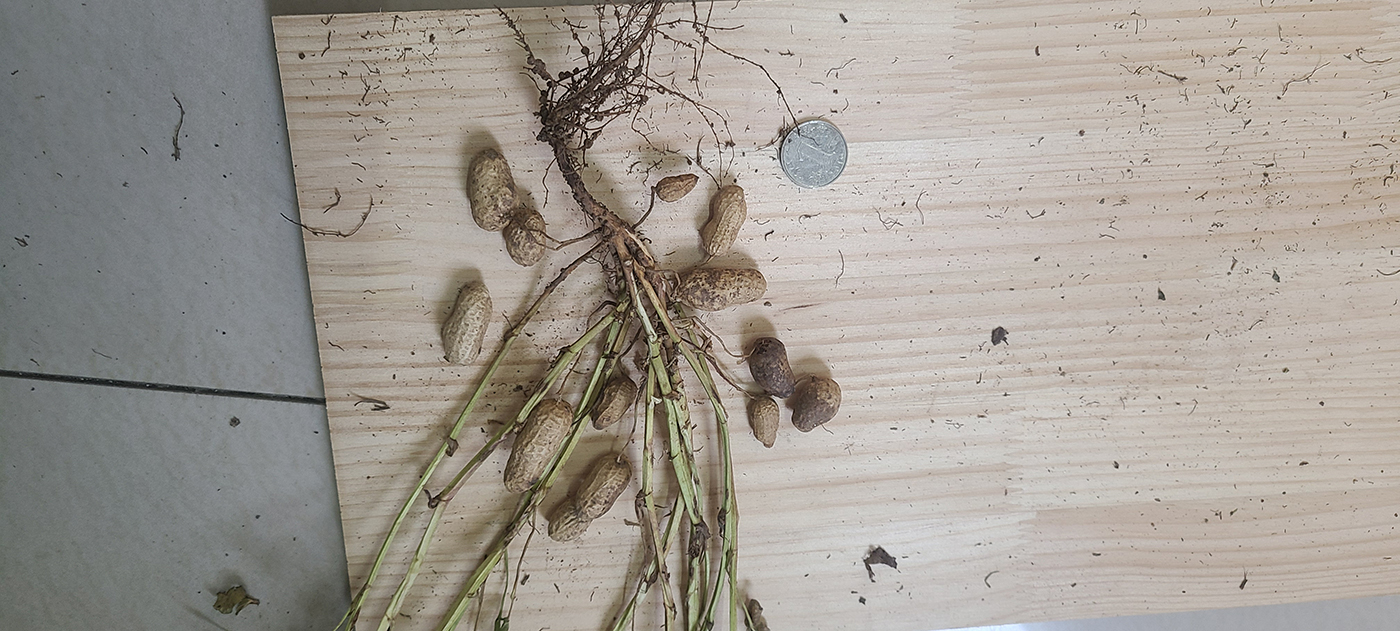h: (547, 452, 633, 543), (503, 399, 574, 494), (440, 281, 493, 364), (465, 150, 515, 233), (673, 269, 768, 309), (698, 184, 747, 257), (589, 376, 638, 431), (503, 210, 546, 269), (748, 398, 781, 450)
l: (750, 337, 796, 397), (792, 378, 843, 432)
